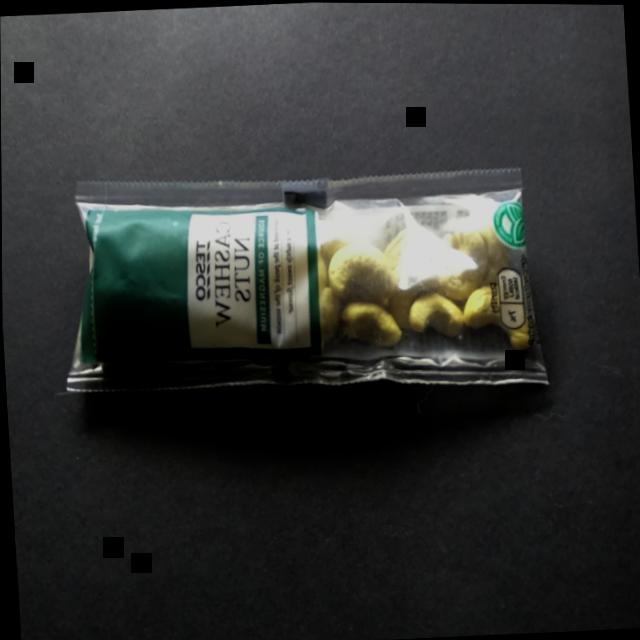Cashewnut: (19, 118, 578, 467)
